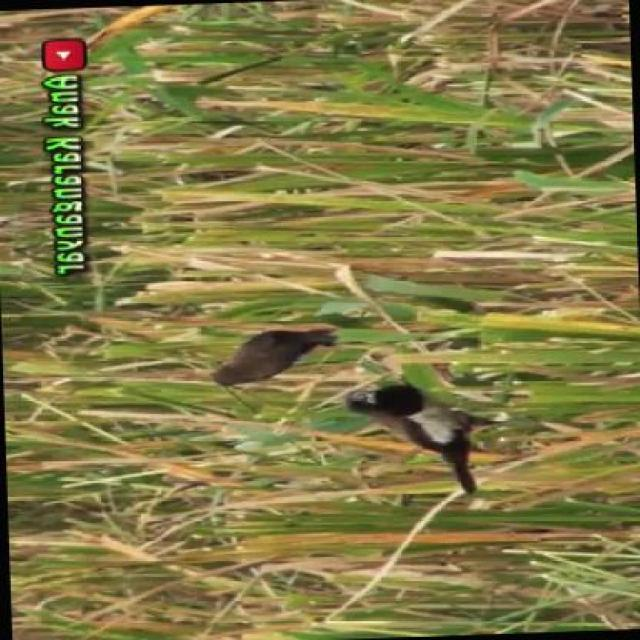Bird: (340, 375, 495, 499), (206, 320, 341, 404)
